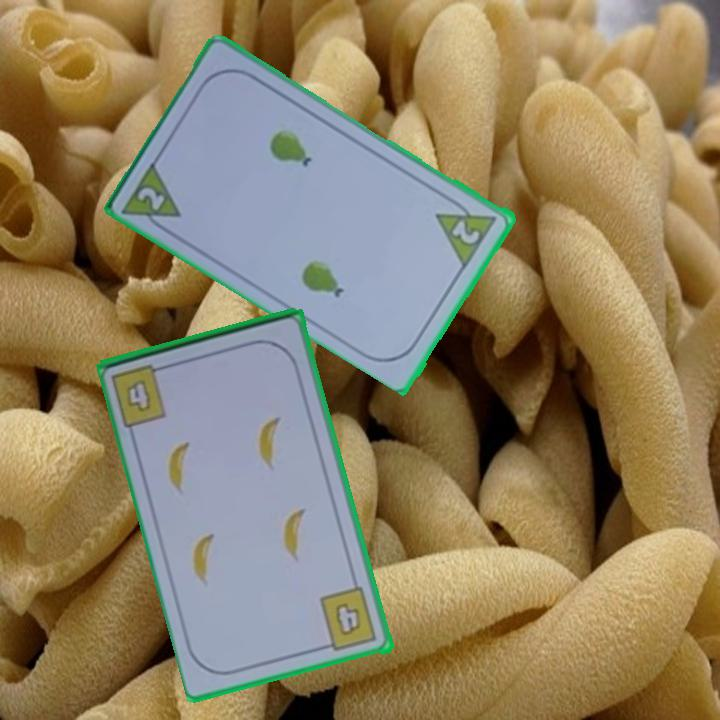2p: (448, 216, 484, 247), (134, 183, 169, 214)
4b: (317, 584, 380, 655), (123, 376, 155, 416)
